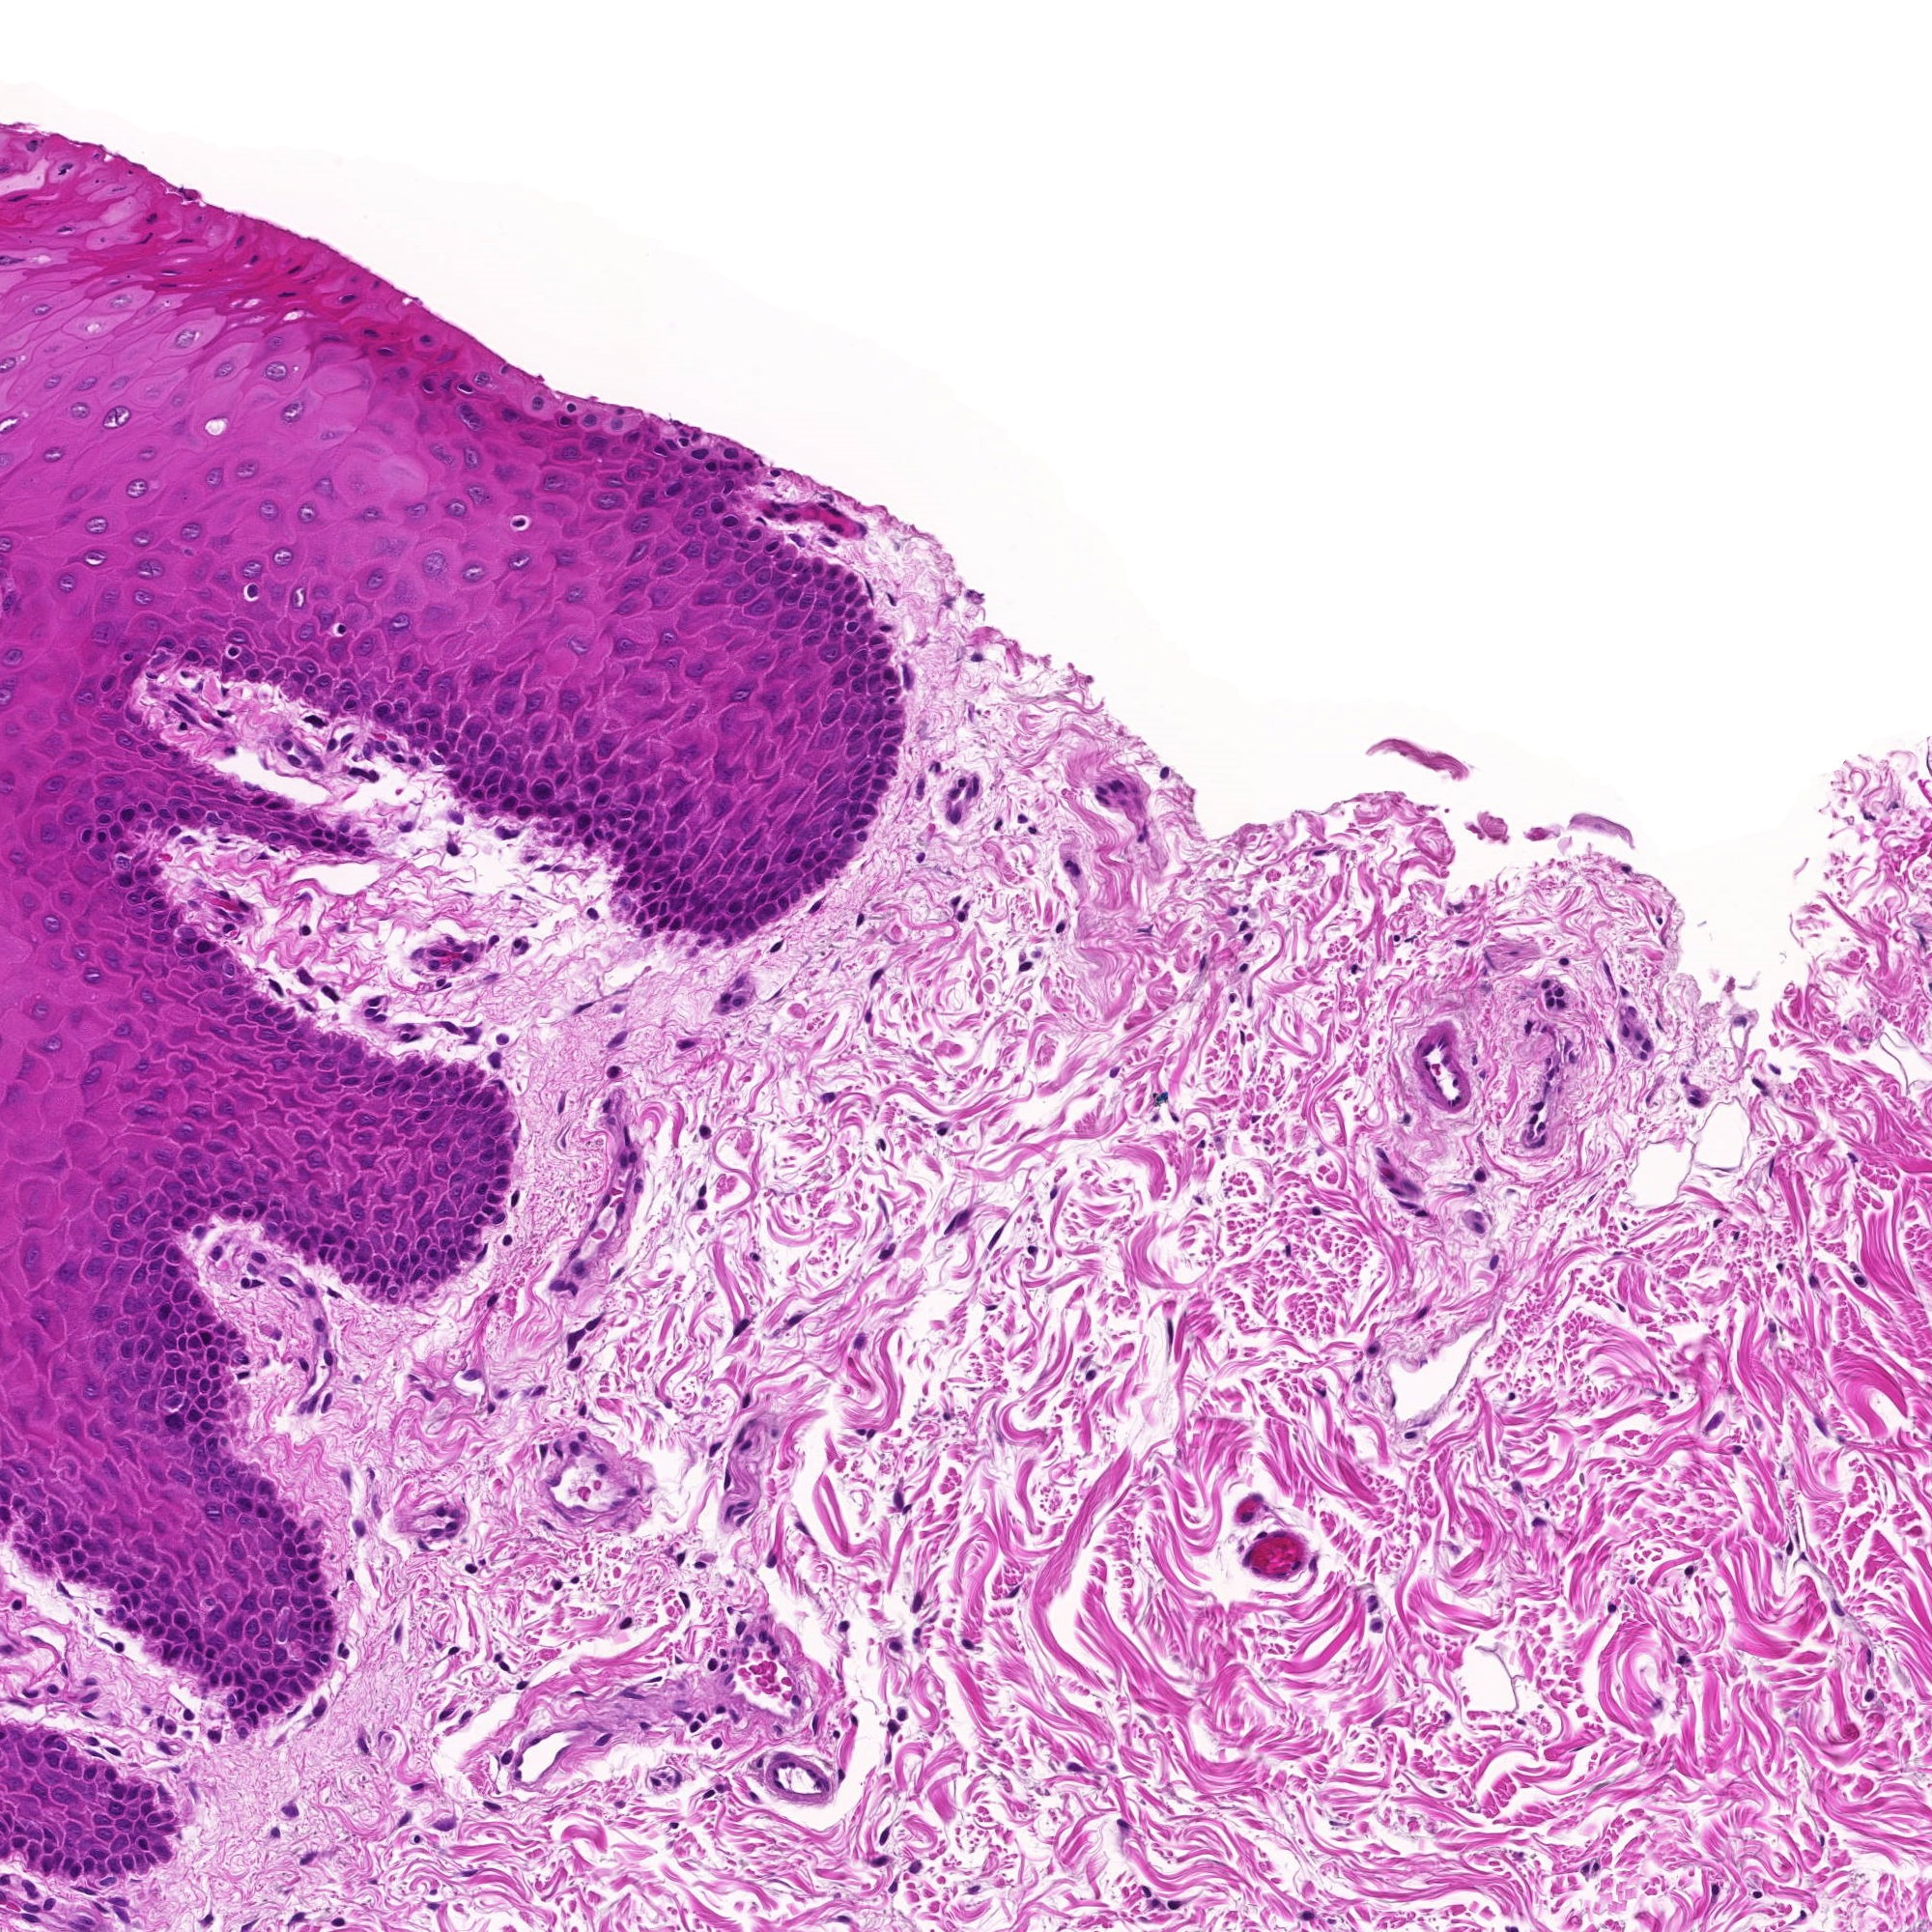epithelial: (449, 380, 481, 414), (387, 1069, 421, 1100), (209, 1341, 242, 1373), (219, 1697, 253, 1729), (248, 1679, 280, 1713), (124, 1610, 157, 1642), (51, 1557, 85, 1589), (564, 791, 598, 823), (667, 777, 699, 810), (333, 281, 364, 313), (354, 317, 386, 349), (370, 336, 402, 368), (170, 177, 202, 209), (2, 182, 34, 214), (361, 267, 393, 299), (48, 152, 80, 184), (209, 352, 241, 384), (274, 267, 306, 299), (110, 863, 142, 895), (85, 821, 117, 853), (456, 713, 488, 745), (152, 626, 184, 658), (391, 713, 423, 745), (260, 821, 292, 853), (88, 803, 120, 835), (212, 649, 244, 681), (384, 692, 416, 724), (311, 819, 343, 851), (462, 660, 494, 692), (258, 658, 290, 690), (218, 782, 249, 814), (88, 786, 120, 817), (310, 603, 341, 635), (145, 922, 177, 954), (343, 832, 375, 863), (446, 939, 478, 971), (230, 642, 262, 674), (281, 816, 313, 847), (193, 646, 225, 678), (207, 563, 239, 594), (203, 768, 235, 800), (453, 738, 485, 770), (437, 709, 469, 741), (35, 909, 67, 941), (186, 941, 218, 973), (127, 869, 159, 901), (442, 727, 474, 759), (331, 656, 363, 688), (124, 897, 156, 929), (235, 561, 267, 593), (113, 642, 145, 674), (269, 793, 301, 824), (129, 717, 161, 748), (35, 729, 67, 761), (278, 584, 310, 616), (163, 1207, 195, 1238), (308, 1237, 340, 1269), (149, 1295, 180, 1327), (407, 1099, 439, 1131), (216, 1194, 248, 1226), (386, 1247, 418, 1279), (161, 1361, 193, 1392), (179, 1359, 211, 1391), (232, 1198, 264, 1230), (198, 1185, 230, 1217), (421, 1258, 453, 1290), (320, 1219, 352, 1251), (456, 1017, 488, 1049), (297, 1215, 329, 1247), (384, 1230, 416, 1261), (403, 1184, 435, 1215), (288, 1122, 320, 1154), (366, 1265, 398, 1297), (343, 1256, 375, 1288), (393, 1168, 425, 1200), (203, 1384, 235, 1415), (405, 1054, 437, 1086), (73, 1063, 104, 1095), (341, 1196, 373, 1228), (442, 1161, 474, 1192), (27, 1300, 58, 1332), (428, 1062, 460, 1093), (214, 1320, 246, 1352), (145, 1141, 177, 1173), (195, 1309, 226, 1341), (127, 1359, 159, 1391), (182, 1184, 214, 1215), (80, 1415, 111, 1447), (382, 1099, 414, 1131), (403, 1251, 435, 1283), (382, 1240, 414, 1272), (203, 1323, 235, 1355), (288, 1157, 320, 1189), (223, 1042, 255, 1074), (449, 1088, 481, 1120), (87, 1339, 119, 1371), (150, 1267, 182, 1299), (18, 1325, 50, 1357), (269, 1168, 301, 1200), (143, 1033, 175, 1065), (306, 1095, 338, 1127), (426, 1070, 458, 1102), (124, 1307, 156, 1339), (165, 1352, 196, 1384), (327, 1099, 359, 1131), (106, 1187, 138, 1219), (212, 1161, 244, 1192), (249, 1198, 281, 1230), (303, 1224, 334, 1256), (308, 1127, 340, 1159), (379, 1063, 410, 1095), (403, 1127, 435, 1159), (223, 1663, 255, 1695), (34, 1849, 65, 1881), (35, 1736, 67, 1767), (278, 1672, 310, 1704), (195, 1637, 226, 1668), (301, 1642, 333, 1674), (304, 1587, 336, 1619), (274, 1509, 306, 1541), (108, 1808, 140, 1840), (274, 1656, 306, 1688), (258, 1686, 290, 1718), (129, 1555, 161, 1587), (152, 1812, 184, 1844), (81, 1838, 113, 1870), (290, 1598, 322, 1629), (48, 1545, 80, 1576), (292, 1548, 324, 1580), (218, 1456, 249, 1488), (301, 1610, 333, 1642), (265, 1502, 297, 1534), (264, 1582, 295, 1614), (165, 1461, 196, 1493), (71, 1557, 103, 1589), (188, 1647, 219, 1679), (88, 1819, 120, 1851), (258, 1497, 290, 1529), (131, 1536, 163, 1568), (265, 1663, 297, 1695), (44, 1530, 76, 1562), (221, 1534, 253, 1566), (290, 1667, 322, 1698), (127, 1844, 159, 1875), (140, 1458, 172, 1490), (149, 1617, 180, 1649), (41, 1729, 73, 1760), (147, 1778, 179, 1810), (219, 1493, 251, 1525), (258, 1651, 290, 1683), (150, 1798, 182, 1829), (41, 1497, 73, 1529), (35, 1835, 67, 1867), (280, 1614, 311, 1645), (207, 1580, 239, 1612), (73, 1769, 104, 1801), (271, 1545, 303, 1576), (163, 1640, 195, 1672), (90, 1865, 122, 1897), (62, 1752, 94, 1783), (87, 1557, 119, 1589), (57, 1518, 88, 1550), (198, 1465, 230, 1497), (522, 386, 554, 418), (713, 437, 745, 469), (711, 464, 743, 495), (616, 456, 648, 488), (708, 444, 740, 476), (676, 421, 708, 453), (706, 456, 738, 488), (556, 391, 587, 423), (678, 464, 709, 495), (616, 851, 648, 883), (667, 870, 699, 902), (713, 506, 745, 538), (637, 893, 669, 925), (573, 824, 605, 856), (538, 794, 570, 826), (738, 518, 770, 550), (639, 835, 671, 867), (752, 863, 784, 895), (586, 784, 617, 816), (582, 817, 614, 849), (803, 860, 835, 892), (594, 754, 626, 786), (644, 901, 676, 932), (842, 807, 874, 839), (837, 793, 869, 824), (796, 623, 828, 655), (681, 885, 713, 916), (860, 718, 892, 750), (867, 637, 899, 669), (862, 768, 893, 800), (816, 568, 847, 600), (517, 686, 548, 718), (479, 741, 511, 773), (642, 869, 674, 901), (819, 614, 851, 646), (718, 906, 750, 938), (518, 794, 550, 826), (754, 495, 786, 527), (833, 596, 865, 628), (690, 915, 722, 947), (828, 837, 860, 869), (552, 685, 584, 717), (876, 699, 908, 731), (711, 916, 743, 948), (506, 784, 538, 816), (754, 764, 786, 796), (610, 591, 642, 623), (729, 901, 761, 932), (832, 826, 863, 858), (617, 732, 649, 764), (754, 685, 786, 717), (660, 768, 692, 800), (814, 639, 846, 671), (729, 674, 761, 706), (835, 699, 867, 731), (814, 853, 846, 885), (743, 591, 775, 623), (846, 575, 878, 607), (580, 805, 612, 837), (497, 775, 529, 807), (713, 849, 745, 881), (584, 752, 616, 784), (858, 729, 890, 761), (823, 582, 855, 614), (800, 853, 832, 885), (823, 816, 855, 847), (752, 886, 784, 918), (763, 784, 794, 816), (591, 743, 623, 775), (671, 786, 702, 817), (717, 881, 748, 913), (867, 695, 899, 727), (720, 511, 752, 543), (784, 860, 816, 892), (543, 807, 575, 839), (812, 775, 844, 807), (764, 874, 796, 906), (600, 844, 632, 876), (770, 635, 801, 667), (497, 794, 529, 826), (485, 1168, 517, 1200), (485, 1154, 517, 1185), (1419, 1069, 1451, 1100), (1263, 1520, 1295, 1552), (1522, 817, 1553, 849), (375, 702, 405, 736), (166, 782, 196, 816), (458, 727, 488, 761), (280, 1028, 310, 1062), (318, 1233, 352, 1263), (104, 1799, 134, 1833), (632, 885, 665, 915), (529, 787, 559, 821), (16, 129, 48, 159), (410, 324, 442, 354), (271, 278, 301, 310), (274, 396, 306, 426), (315, 322, 345, 354), (449, 372, 481, 402), (239, 242, 269, 274), (386, 357, 418, 387), (433, 341, 465, 372), (152, 269, 184, 299), (458, 402, 488, 433), (426, 439, 456, 471), (455, 444, 487, 474), (198, 460, 230, 490), (65, 395, 96, 426), (258, 327, 290, 357), (188, 931, 219, 961), (111, 800, 143, 830), (407, 711, 437, 743), (71, 819, 103, 849), (301, 821, 333, 851), (175, 642, 207, 672), (260, 789, 290, 821), (334, 688, 364, 720), (441, 699, 471, 731), (442, 761, 474, 791), (101, 816, 131, 847), (430, 731, 460, 763), (271, 803, 301, 835), (313, 832, 345, 862), (239, 658, 269, 690), (138, 855, 168, 886), (108, 832, 140, 862), (308, 665, 338, 697), (412, 697, 444, 727), (287, 828, 318, 858), (244, 784, 274, 816), (129, 793, 161, 823), (283, 662, 313, 694), (157, 904, 188, 936), (134, 879, 166, 909), (92, 667, 122, 699), (235, 812, 265, 844), (359, 561, 391, 591), (149, 800, 180, 830), (435, 722, 467, 752), (85, 837, 115, 869), (133, 736, 165, 766), (119, 881, 150, 911), (458, 761, 490, 791), (237, 573, 267, 605), (322, 821, 352, 853), (198, 803, 228, 835), (175, 513, 207, 543), (354, 499, 386, 529), (331, 674, 361, 706), (274, 812, 304, 844), (119, 701, 149, 732), (133, 550, 163, 582), (423, 741, 455, 771), (78, 540, 110, 570), (350, 630, 382, 660), (425, 936, 455, 968), (161, 793, 191, 824), (377, 612, 407, 644), (221, 621, 251, 653), (430, 667, 460, 699), (166, 685, 196, 717), (322, 633, 352, 665), (39, 768, 69, 800), (196, 936, 226, 968), (456, 561, 488, 591), (403, 727, 433, 759), (297, 830, 329, 860), (60, 743, 92, 773), (51, 883, 81, 915), (435, 741, 467, 771), (168, 932, 198, 964), (161, 740, 191, 771), (290, 658, 322, 688), (437, 931, 469, 961), (149, 635, 180, 665), (103, 807, 134, 837), (398, 495, 430, 525), (110, 725, 142, 755), (297, 814, 329, 844), (184, 637, 216, 667), (398, 720, 428, 752), (154, 814, 186, 844), (122, 925, 154, 955), (12, 888, 44, 918), (318, 694, 349, 725), (97, 766, 129, 796), (184, 759, 214, 791), (382, 708, 412, 740), (119, 805, 149, 837), (57, 800, 88, 830), (122, 798, 154, 828), (101, 686, 131, 718), (458, 745, 490, 775), (119, 867, 149, 899), (306, 575, 336, 607), (53, 502, 85, 533), (179, 796, 209, 828), (384, 605, 414, 637), (71, 679, 101, 711), (4, 846, 35, 876), (143, 807, 175, 837), (96, 941, 127, 971), (138, 607, 168, 639), (205, 646, 237, 676), (159, 750, 189, 782), (260, 630, 292, 660), (242, 796, 274, 826), (67, 773, 99, 803), (12, 747, 42, 778), (193, 602, 223, 633), (219, 800, 249, 832), (191, 1322, 221, 1353), (177, 1401, 209, 1431), (271, 1010, 301, 1042), (177, 1327, 209, 1357), (333, 1230, 364, 1260), (418, 1238, 448, 1270), (175, 1196, 205, 1228), (180, 1284, 211, 1316), (244, 1003, 276, 1033), (407, 1228, 437, 1260), (207, 1316, 239, 1346), (433, 1233, 465, 1263), (180, 1421, 211, 1453), (364, 1254, 395, 1286), (366, 1200, 398, 1230), (186, 1387, 218, 1417), (448, 1233, 478, 1265), (395, 1053, 426, 1083), (437, 1056, 467, 1088), (145, 1077, 175, 1109), (340, 1175, 370, 1207), (165, 1277, 196, 1307), (143, 1233, 173, 1265), (331, 1090, 363, 1120), (166, 1329, 198, 1359), (101, 1214, 133, 1244), (50, 1256, 80, 1288), (331, 1238, 363, 1269), (134, 1339, 166, 1369), (322, 1185, 352, 1217), (127, 1051, 157, 1083), (428, 1194, 460, 1224), (370, 1180, 402, 1210), (338, 1039, 370, 1069), (180, 1099, 212, 1129), (373, 1272, 403, 1304), (426, 1242, 458, 1272), (108, 1016, 140, 1046), (281, 1224, 313, 1254), (85, 1299, 117, 1329), (451, 1223, 481, 1254), (55, 1412, 87, 1442), (373, 1123, 405, 1154), (154, 1325, 184, 1357), (170, 1051, 202, 1081), (364, 1074, 396, 1104), (334, 1065, 366, 1095), (172, 1161, 203, 1191), (345, 1242, 377, 1272), (124, 1258, 154, 1290), (42, 1148, 73, 1180), (203, 1346, 234, 1378), (23, 994, 55, 1024), (202, 1014, 232, 1046), (292, 1044, 322, 1076), (257, 1214, 288, 1244), (170, 1120, 202, 1150), (175, 1141, 207, 1171), (196, 1364, 226, 1396), (308, 1026, 338, 1058), (375, 1247, 405, 1279), (205, 1182, 237, 1212), (456, 1359, 488, 1389), (177, 1373, 209, 1403), (260, 1200, 290, 1231), (88, 1037, 119, 1069), (152, 1362, 182, 1394), (251, 1008, 281, 1040), (219, 1152, 249, 1184), (30, 1031, 62, 1062), (117, 1290, 149, 1320), (44, 1359, 74, 1391), (129, 1332, 159, 1364), (173, 1389, 205, 1419), (255, 1021, 287, 1051), (205, 993, 235, 1024), (115, 1230, 145, 1261), (301, 1146, 333, 1177), (168, 1017, 198, 1049), (410, 1069, 442, 1099), (272, 1083, 303, 1115), (311, 1047, 343, 1077), (142, 1410, 173, 1440), (458, 1189, 490, 1219), (446, 1072, 476, 1104), (324, 1109, 354, 1141), (313, 1062, 343, 1093), (180, 1336, 212, 1366), (172, 1288, 203, 1318), (407, 1215, 437, 1247), (258, 1095, 290, 1125), (156, 1171, 188, 1201), (186, 1396, 218, 1426), (226, 1178, 258, 1208), (430, 1221, 460, 1253), (103, 1164, 133, 1196), (161, 1189, 191, 1221), (446, 1100, 476, 1132), (14, 1247, 46, 1277), (90, 1231, 122, 1261), (458, 1058, 490, 1088), (428, 1210, 458, 1242), (165, 1403, 196, 1433), (196, 1399, 226, 1431), (103, 1403, 133, 1435), (173, 1311, 203, 1343), (343, 1233, 373, 1265), (395, 1253, 425, 1284), (198, 1375, 228, 1407), (283, 1021, 313, 1053), (27, 1387, 57, 1419), (188, 1157, 219, 1187), (188, 1192, 219, 1223), (331, 1217, 363, 1247), (143, 1330, 173, 1362), (382, 1269, 414, 1299), (159, 1316, 189, 1348), (173, 1060, 203, 1092), (159, 1284, 189, 1316), (361, 1246, 391, 1277), (237, 996, 267, 1028), (449, 1171, 481, 1201), (51, 1527, 83, 1557), (165, 1605, 196, 1635), (62, 1541, 94, 1571), (255, 1660, 285, 1691), (154, 1637, 186, 1667), (246, 1497, 278, 1527), (134, 1606, 165, 1638), (249, 1474, 281, 1504), (122, 1568, 152, 1599), (311, 1610, 343, 1640), (225, 1679, 257, 1709), (73, 1849, 103, 1881), (55, 1748, 85, 1780), (281, 1550, 313, 1580), (244, 1695, 276, 1725), (212, 1663, 242, 1695), (101, 1792, 131, 1824), (140, 1614, 172, 1644), (64, 1559, 94, 1591), (4, 1826, 35, 1856), (297, 1654, 329, 1684), (200, 1599, 230, 1631), (35, 1725, 65, 1757), (127, 1828, 157, 1859), (111, 1776, 143, 1806), (19, 1507, 50, 1539), (58, 1854, 90, 1884), (283, 1587, 315, 1617), (265, 1683, 297, 1713), (234, 1654, 265, 1684), (287, 1568, 317, 1599), (30, 1530, 60, 1562), (299, 1557, 329, 1589), (287, 1534, 318, 1564), (34, 1826, 65, 1856), (62, 1511, 94, 1541), (5, 1454, 37, 1484), (149, 1564, 180, 1594), (150, 1601, 182, 1631), (110, 1571, 142, 1601), (251, 1601, 281, 1633), (248, 1626, 280, 1656), (131, 1792, 161, 1824), (25, 1776, 55, 1808), (285, 1520, 317, 1550), (147, 1835, 177, 1867), (202, 1626, 232, 1658), (4, 1813, 34, 1845), (140, 1803, 172, 1833), (76, 1530, 106, 1562), (198, 1499, 228, 1530), (57, 1534, 88, 1564), (129, 1778, 159, 1810), (237, 1683, 267, 1714), (80, 1472, 110, 1504), (50, 1844, 80, 1875), (39, 1844, 71, 1874), (232, 1470, 264, 1500), (103, 1828, 134, 1858), (214, 1644, 244, 1675), (9, 1536, 41, 1566), (182, 1642, 214, 1672), (244, 1658, 276, 1688), (189, 1456, 219, 1488), (12, 1730, 42, 1762), (258, 1672, 290, 1702), (274, 1677, 304, 1709), (299, 1582, 329, 1614), (2, 1718, 32, 1750), (18, 1541, 50, 1571), (219, 1557, 249, 1589), (203, 1658, 235, 1688), (97, 1856, 129, 1886), (90, 1509, 122, 1539), (19, 1476, 51, 1506), (310, 1598, 341, 1628), (165, 1614, 195, 1645), (306, 1626, 336, 1658), (27, 1844, 58, 1874), (223, 1465, 253, 1497), (119, 1796, 150, 1826), (290, 1511, 322, 1541), (267, 1525, 297, 1557), (166, 1539, 196, 1571), (65, 1527, 96, 1559), (74, 1541, 104, 1573), (150, 1580, 182, 1610), (35, 1755, 65, 1787), (198, 1453, 228, 1484), (196, 1651, 226, 1683), (67, 1548, 99, 1578), (19, 1727, 51, 1757), (172, 1569, 203, 1599), (152, 1628, 182, 1660), (122, 1580, 152, 1612), (280, 1539, 310, 1571), (34, 1780, 65, 1810), (685, 437, 715, 469), (575, 403, 605, 435), (548, 405, 580, 435), (492, 398, 524, 428), (674, 453, 704, 485), (732, 449, 763, 481), (720, 444, 752, 474), (554, 437, 584, 469), (534, 464, 566, 494), (715, 449, 745, 481), (602, 405, 633, 435), (685, 453, 717, 483), (678, 444, 708, 476), (501, 402, 533, 432), (603, 396, 635, 426), (669, 425, 699, 456), (635, 448, 667, 478), (511, 423, 543, 453), (488, 352, 520, 382), (642, 435, 674, 465), (594, 464, 626, 494), (720, 456, 752, 487), (633, 426, 663, 458), (617, 867, 648, 899), (527, 777, 559, 807), (568, 805, 600, 835), (492, 787, 524, 817), (718, 892, 750, 922), (508, 796, 540, 826), (626, 800, 656, 832), (554, 791, 584, 823), (655, 906, 685, 938), (506, 771, 536, 803), (603, 830, 635, 860), (874, 660, 906, 690), (701, 492, 732, 522), (939, 800, 970, 832), (488, 690, 520, 720), (665, 793, 697, 823), (754, 531, 786, 561), (545, 763, 575, 794), (842, 671, 874, 701), (752, 897, 782, 929), (591, 729, 621, 761), (743, 849, 775, 879), (646, 853, 676, 885), (674, 906, 704, 938), (823, 594, 853, 626), (817, 556, 847, 587), (706, 791, 736, 823), (842, 778, 872, 810), (571, 743, 602, 775), (513, 775, 545, 805), (490, 770, 522, 800), (653, 892, 685, 922), (690, 582, 720, 614), (851, 793, 881, 824), (655, 826, 686, 856), (768, 886, 800, 916), (801, 552, 832, 584), (669, 849, 701, 879), (561, 800, 593, 830), (547, 543, 579, 573), (609, 796, 639, 828), (630, 824, 660, 856), (770, 711, 801, 741), (833, 564, 865, 594), (617, 782, 649, 812), (497, 663, 527, 695), (524, 717, 554, 748), (775, 501, 807, 531), (678, 695, 708, 727), (846, 639, 876, 671), (860, 625, 890, 656), (856, 665, 888, 695), (780, 550, 810, 582), (835, 628, 865, 660), (778, 807, 810, 837), (655, 865, 686, 895), (502, 543, 534, 573), (676, 534, 706, 566), (686, 833, 717, 865), (660, 901, 690, 932), (559, 580, 589, 612), (771, 605, 801, 637), (561, 812, 593, 842), (860, 701, 892, 731), (607, 867, 639, 897), (798, 605, 828, 637), (777, 580, 807, 612), (628, 899, 658, 931), (846, 761, 878, 791), (591, 821, 623, 851), (623, 833, 655, 863), (823, 846, 855, 876), (660, 801, 692, 832), (658, 874, 690, 904), (616, 570, 646, 602), (708, 752, 738, 784), (791, 586, 821, 617), (729, 847, 761, 878), (849, 752, 879, 784), (639, 699, 669, 731), (676, 736, 708, 766), (876, 678, 906, 709), (699, 890, 729, 922), (697, 853, 729, 883), (649, 625, 681, 655), (812, 759, 842, 791), (697, 543, 729, 573), (778, 878, 810, 908), (499, 761, 529, 793), (621, 510, 651, 541), (812, 492, 842, 524), (860, 686, 892, 717), (499, 750, 531, 780), (729, 579, 761, 609), (538, 770, 570, 800), (708, 892, 740, 922), (632, 674, 662, 706), (791, 869, 823, 899), (763, 563, 793, 594), (761, 536, 791, 568), (824, 796, 855, 828), (724, 915, 754, 947), (490, 679, 522, 709), (810, 561, 840, 593), (727, 518, 757, 550), (860, 655, 892, 685), (837, 732, 869, 763), (851, 704, 881, 736), (709, 708, 741, 738), (713, 757, 745, 787), (630, 495, 660, 527), (665, 909, 695, 941), (856, 777, 886, 809), (621, 812, 653, 842), (747, 563, 778, 593), (681, 909, 713, 939), (725, 540, 757, 570), (731, 833, 763, 863), (745, 904, 775, 936), (490, 745, 522, 775), (729, 807, 761, 837), (628, 506, 658, 538), (874, 747, 906, 777), (628, 869, 658, 901), (538, 492, 568, 524), (660, 853, 692, 883), (704, 743, 736, 773), (732, 879, 764, 909), (791, 839, 823, 869), (653, 646, 683, 678), (561, 630, 593, 660), (690, 858, 720, 890), (692, 513, 724, 543), (545, 789, 575, 821), (791, 817, 821, 849), (865, 619, 897, 649), (770, 862, 801, 892), (819, 633, 849, 665), (801, 492, 832, 524), (485, 1109, 515, 1141), (564, 1253, 594, 1284), (488, 1145, 518, 1177), (612, 1143, 642, 1175), (481, 1093, 511, 1125), (499, 1122, 529, 1154), (483, 1122, 513, 1154), (770, 1744, 800, 1776), (614, 1677, 646, 1707), (1127, 821, 1159, 851), (1392, 1171, 1424, 1201), (1410, 1051, 1442, 1081), (1238, 1548, 1270, 1578), (1276, 1550, 1306, 1582), (1265, 1557, 1295, 1589), (1265, 1530, 1295, 1562), (1472, 941, 1502, 973), (1757, 1150, 1787, 1182), (1835, 1716, 1867, 1746), (18, 1836, 46, 1870), (136, 203, 166, 234), (412, 370, 442, 400), (225, 225, 255, 255), (280, 255, 310, 285), (99, 398, 129, 428), (407, 405, 437, 435), (432, 370, 462, 400), (170, 225, 200, 255), (131, 225, 161, 255), (37, 439, 67, 469), (234, 453, 264, 483), (50, 214, 80, 244), (165, 412, 195, 442), (366, 697, 396, 727), (449, 768, 479, 798), (462, 780, 492, 810), (170, 800, 200, 830), (142, 886, 172, 916), (329, 828, 359, 858), (290, 807, 320, 837), (173, 927, 203, 957), (389, 648, 419, 678), (145, 731, 175, 761), (421, 717, 451, 747), (119, 656, 149, 686), (439, 495, 469, 525), (453, 775, 483, 805), (0, 639, 30, 669), (51, 564, 81, 594), (292, 501, 322, 531), (126, 812, 156, 842), (145, 644, 175, 674), (207, 525, 237, 556), (294, 676, 324, 706), (122, 839, 152, 869), (235, 552, 265, 582), (127, 520, 157, 550), (264, 798, 294, 828), (203, 941, 234, 971), (143, 901, 173, 931), (292, 617, 322, 648), (50, 701, 80, 731), (30, 819, 60, 849), (382, 724, 412, 754), (271, 543, 301, 573), (96, 706, 126, 736), (249, 791, 280, 821), (255, 497, 285, 527), (83, 510, 113, 540), (419, 598, 449, 628), (324, 685, 354, 715), (414, 552, 444, 582), (281, 803, 311, 833), (124, 708, 154, 738), (127, 846, 157, 876), (313, 1223, 343, 1253), (188, 1304, 218, 1334), (216, 1180, 246, 1210), (196, 1339, 226, 1369), (455, 1214, 485, 1244), (402, 1260, 432, 1290), (198, 1355, 228, 1385), (418, 1062, 448, 1092), (127, 1099, 157, 1129), (156, 1256, 186, 1286), (246, 1191, 276, 1221), (290, 1228, 320, 1258), (352, 1106, 382, 1136), (453, 1077, 483, 1108), (78, 962, 108, 993), (437, 1247, 467, 1277), (398, 1244, 428, 1274), (239, 987, 269, 1017), (189, 1369, 219, 1399), (370, 1065, 400, 1095), (350, 1146, 380, 1177), (257, 996, 287, 1026), (191, 1412, 221, 1442), (111, 1334, 142, 1364), (405, 1085, 435, 1115), (349, 1122, 379, 1152), (159, 1385, 189, 1415), (425, 1129, 455, 1159), (458, 1069, 488, 1099), (216, 975, 246, 1005), (140, 1249, 170, 1279), (202, 1132, 232, 1162), (267, 1049, 297, 1079), (409, 1207, 439, 1237), (214, 1116, 244, 1146), (464, 1203, 494, 1233), (175, 1180, 205, 1210), (124, 1200, 154, 1230), (391, 1263, 421, 1293), (62, 1001, 92, 1031), (426, 1154, 456, 1184), (391, 1113, 421, 1143), (451, 1120, 481, 1150), (267, 1001, 297, 1031), (5, 1401, 35, 1431), (133, 1385, 163, 1415), (211, 1093, 241, 1123), (113, 1072, 143, 1102), (80, 1253, 110, 1283), (462, 1237, 492, 1267), (322, 1030, 352, 1060), (257, 1150, 287, 1180), (299, 1182, 329, 1212), (462, 1085, 492, 1115), (134, 985, 165, 1016), (357, 1047, 387, 1077), (465, 1173, 495, 1203), (186, 1042, 216, 1072), (182, 1320, 212, 1350), (246, 1164, 276, 1194), (138, 1316, 168, 1346), (76, 1371, 106, 1401), (140, 1221, 170, 1251), (120, 1143, 150, 1173), (157, 1304, 188, 1334), (333, 1054, 363, 1085), (108, 1313, 138, 1343), (439, 1143, 469, 1173), (329, 1247, 359, 1277), (104, 1256, 134, 1286), (143, 1284, 173, 1315), (62, 1118, 92, 1148), (198, 1422, 228, 1453), (225, 1060, 255, 1090), (16, 1237, 46, 1267), (439, 1079, 469, 1109), (223, 1005, 253, 1035), (402, 1235, 432, 1265), (391, 1060, 421, 1090), (196, 968, 226, 998), (260, 1189, 290, 1219), (175, 1070, 205, 1100), (412, 1164, 442, 1194), (142, 1210, 172, 1240), (241, 1674, 271, 1704), (14, 1741, 44, 1771), (230, 1488, 260, 1518), (76, 1757, 106, 1787), (177, 1619, 207, 1649), (115, 1585, 145, 1615), (80, 1552, 110, 1582), (219, 1612, 249, 1642), (265, 1638, 295, 1668), (290, 1610, 320, 1640), (234, 1589, 264, 1619), (103, 1851, 133, 1881), (219, 1688, 249, 1718), (113, 1847, 143, 1877), (115, 1610, 145, 1640), (156, 1587, 186, 1617), (274, 1532, 304, 1562), (198, 1665, 228, 1695), (182, 1629, 212, 1660), (257, 1562, 287, 1592), (249, 1488, 280, 1518), (28, 1743, 58, 1773), (173, 1612, 203, 1642), (159, 1621, 189, 1651), (4, 1488, 34, 1518), (96, 1759, 126, 1789), (186, 1552, 216, 1582), (237, 1698, 267, 1729), (110, 1546, 140, 1576), (51, 1782, 81, 1812), (237, 1612, 267, 1642), (271, 1555, 301, 1585), (94, 1566, 124, 1596), (126, 1812, 156, 1842), (96, 1454, 126, 1484), (87, 1805, 117, 1835), (237, 1491, 267, 1522), (203, 1474, 234, 1504), (430, 1810, 460, 1840), (18, 1819, 48, 1849), (237, 1665, 267, 1695), (88, 1532, 119, 1562), (2, 1767, 32, 1798), (126, 1589, 156, 1619), (143, 1511, 173, 1541), (27, 1833, 57, 1863), (173, 1640, 203, 1670), (297, 1571, 327, 1601), (272, 1619, 303, 1649), (249, 1640, 280, 1670), (37, 1746, 67, 1776), (88, 1852, 119, 1882), (58, 1813, 88, 1844), (30, 1550, 60, 1580), (103, 1888, 133, 1918), (244, 1621, 274, 1651), (290, 1622, 320, 1652), (134, 1835, 165, 1865), (186, 1438, 216, 1468), (159, 1596, 189, 1626), (39, 1490, 69, 1520), (232, 1507, 262, 1537), (257, 1529, 287, 1559), (163, 1628, 193, 1658), (214, 1605, 244, 1635), (122, 1835, 152, 1865), (651, 432, 681, 462), (617, 421, 648, 451), (582, 428, 612, 458), (488, 458, 518, 488), (662, 464, 692, 494), (635, 414, 665, 444), (697, 437, 727, 467), (651, 462, 681, 492), (628, 421, 658, 451), (575, 771, 605, 801), (778, 840, 809, 870), (835, 582, 865, 612), (616, 837, 646, 867), (610, 812, 640, 842), (805, 840, 835, 870), (596, 805, 626, 835), (840, 655, 870, 685), (876, 717, 906, 747), (874, 734, 904, 764), (534, 747, 564, 777), (706, 909, 736, 939), (759, 879, 789, 909), (824, 663, 855, 694), (747, 883, 777, 913), (734, 909, 764, 939), (793, 849, 823, 879), (867, 754, 897, 784), (814, 702, 844, 732), (770, 550, 800, 580), (789, 559, 819, 589), (485, 773, 515, 803), (837, 607, 867, 637), (607, 632, 637, 662), (821, 807, 851, 837), (840, 720, 870, 750), (851, 602, 881, 632), (738, 826, 768, 856), (683, 655, 713, 685), (633, 780, 663, 810), (886, 660, 916, 690), (761, 892, 791, 922), (731, 870, 761, 901), (651, 550, 681, 580), (738, 888, 768, 918), (844, 586, 874, 616), (637, 748, 667, 778), (807, 589, 837, 619), (685, 497, 715, 527), (766, 577, 796, 607), (550, 816, 580, 846), (591, 487, 621, 517), (582, 777, 612, 807), (745, 646, 775, 676), (635, 851, 665, 881), (621, 538, 651, 568), (713, 832, 743, 862), (738, 550, 768, 580), (679, 897, 709, 927), (789, 679, 819, 709), (669, 885, 699, 915), (672, 513, 702, 543), (640, 911, 671, 941), (497, 725, 527, 755), (701, 870, 731, 901), (642, 582, 672, 612), (598, 814, 628, 844), (793, 699, 823, 729), (614, 759, 644, 789), (800, 816, 830, 846), (729, 531, 759, 561), (722, 681, 752, 711), (678, 878, 708, 908), (667, 740, 697, 770), (692, 899, 722, 929), (614, 890, 644, 920), (708, 527, 738, 557), (819, 692, 849, 722), (690, 649, 720, 679), (800, 833, 830, 863), (488, 1134, 518, 1164), (497, 1111, 527, 1141), (961, 580, 991, 610), (1412, 1033, 1442, 1063), (1235, 1541, 1265, 1571), (1254, 1522, 1284, 1552), (1362, 1706, 1392, 1736), (1499, 938, 1529, 968), (1442, 1086, 1472, 1116), (1757, 1313, 1787, 1343), (1714, 970, 1744, 1000), (127, 858, 156, 890), (350, 674, 382, 702), (159, 1343, 188, 1375), (359, 1261, 387, 1293), (276, 1219, 308, 1247), (159, 1371, 188, 1403), (101, 1776, 133, 1805), (138, 1591, 166, 1622), (44, 1507, 73, 1539), (117, 1509, 145, 1541), (225, 1619, 257, 1647), (136, 1566, 168, 1594), (156, 1608, 188, 1637), (695, 451, 727, 479), (632, 485, 663, 513), (568, 709, 596, 741), (844, 621, 876, 649), (1415, 747, 1447, 775), (453, 396, 481, 426), (260, 359, 290, 387), (407, 663, 437, 692), (96, 584, 124, 614), (157, 1408, 188, 1437), (159, 1238, 188, 1269), (338, 1261, 366, 1292), (11, 1051, 41, 1079), (442, 1178, 471, 1208), (442, 1240, 471, 1270), (264, 1520, 292, 1550), (106, 1598, 136, 1626), (686, 893, 717, 922), (663, 888, 692, 918), (479, 763, 508, 793), (747, 741, 775, 771), (479, 731, 508, 761), (479, 1139, 508, 1169), (658, 479, 688, 506)
fibroblast and endothelial: (288, 732, 320, 766), (207, 697, 239, 729), (356, 732, 387, 764), (271, 727, 303, 759), (379, 738, 410, 770), (412, 743, 444, 775), (405, 938, 437, 970), (315, 1277, 347, 1309), (299, 1387, 331, 1419), (444, 1014, 476, 1046), (198, 1720, 230, 1752), (437, 1504, 469, 1536), (327, 1635, 359, 1667), (34, 1674, 65, 1706), (433, 1511, 465, 1543), (437, 1635, 469, 1667), (32, 1888, 64, 1920), (389, 1803, 421, 1835), (343, 1514, 375, 1546), (14, 1677, 46, 1709), (356, 1456, 387, 1488), (761, 456, 793, 488), (660, 407, 692, 439), (490, 817, 522, 849), (502, 929, 534, 961), (920, 750, 952, 782), (844, 904, 876, 936), (876, 584, 908, 616), (764, 494, 796, 525), (722, 980, 754, 1012), (669, 1028, 701, 1060), (487, 1023, 518, 1054), (610, 1122, 642, 1154), (851, 1415, 883, 1447), (543, 1269, 575, 1300), (485, 1378, 517, 1410), (559, 1240, 591, 1272), (596, 1187, 628, 1219), (931, 1399, 962, 1431), (488, 1210, 520, 1242), (674, 1704, 706, 1736), (863, 1844, 895, 1875), (485, 1645, 517, 1677), (826, 1610, 858, 1642), (663, 1541, 695, 1573), (885, 1698, 916, 1730), (704, 1693, 736, 1725), (701, 1727, 732, 1759), (824, 1759, 856, 1790), (805, 1767, 837, 1799), (800, 1707, 832, 1739), (798, 1759, 830, 1790), (741, 1746, 773, 1778), (711, 1463, 743, 1495), (899, 1851, 931, 1882), (616, 1476, 648, 1507), (538, 1465, 570, 1497), (628, 1709, 660, 1741), (759, 1759, 791, 1790), (713, 1697, 745, 1729), (888, 1626, 920, 1658), (715, 1499, 747, 1530), (752, 1750, 784, 1782), (1044, 911, 1076, 943), (1056, 851, 1088, 883), (1007, 803, 1039, 835), (1131, 915, 1162, 947), (1405, 1196, 1437, 1228), (1405, 1297, 1437, 1329), (1016, 1233, 1047, 1265), (1394, 1419, 1426, 1451), (1357, 1332, 1389, 1364), (1306, 1376, 1338, 1408), (1097, 1056, 1129, 1088), (1226, 1021, 1258, 1053), (1376, 1168, 1408, 1200), (1108, 1810, 1139, 1842), (1240, 1483, 1272, 1514), (1610, 853, 1642, 885), (1522, 1090, 1553, 1122), (1612, 1016, 1644, 1047), (1679, 1083, 1711, 1115), (1525, 1115, 1557, 1146), (1513, 1010, 1545, 1042), (1477, 1246, 1509, 1277), (1725, 1005, 1757, 1037), (1495, 1380, 1527, 1412), (1628, 1035, 1660, 1067), (1836, 1141, 1868, 1173), (1530, 1014, 1562, 1046), (1720, 1219, 1752, 1251), (1667, 1644, 1698, 1675), (1571, 1852, 1603, 1884), (1522, 1506, 1553, 1537), (1741, 1877, 1773, 1909), (1787, 1898, 1819, 1930), (184, 671, 214, 704), (182, 824, 216, 855), (1284, 1548, 1318, 1578), (341, 757, 373, 787), (299, 706, 331, 736), (354, 761, 386, 791), (400, 745, 430, 777), (387, 743, 418, 775), (437, 833, 467, 865), (207, 879, 239, 909), (322, 729, 354, 759), (391, 812, 421, 844), (331, 724, 363, 754), (442, 801, 472, 833), (214, 911, 244, 943), (301, 748, 333, 778), (173, 824, 203, 856), (166, 699, 198, 729), (214, 736, 246, 766), (364, 731, 396, 761), (453, 934, 485, 964), (209, 676, 241, 706), (327, 911, 357, 943), (375, 729, 405, 761), (209, 901, 241, 931), (170, 658, 200, 690), (260, 971, 292, 1001), (359, 985, 389, 1017), (244, 1242, 274, 1274), (235, 1267, 265, 1299), (361, 1001, 393, 1031), (295, 1276, 326, 1307), (288, 961, 320, 991), (425, 968, 456, 998), (393, 1021, 423, 1053), (313, 1343, 343, 1375), (310, 1387, 341, 1417), (269, 1267, 301, 1297), (303, 1309, 334, 1339), (288, 1350, 318, 1382), (412, 1380, 444, 1410), (242, 1253, 272, 1284), (280, 1270, 311, 1300), (426, 1497, 456, 1529), (173, 1698, 203, 1730), (456, 1552, 487, 1583), (14, 1872, 44, 1904), (48, 1573, 78, 1605), (428, 1698, 460, 1729), (290, 1844, 322, 1874), (421, 1514, 453, 1545), (449, 1700, 481, 1730), (334, 1559, 364, 1591), (258, 1817, 290, 1847), (276, 1794, 306, 1826), (71, 1875, 103, 1905), (322, 1902, 354, 1932), (14, 1900, 44, 1932), (191, 1902, 223, 1932), (226, 1716, 258, 1746), (402, 1822, 432, 1854), (73, 1672, 104, 1702), (382, 1617, 412, 1649), (331, 1461, 361, 1493), (294, 1695, 324, 1727), (407, 1529, 437, 1560), (71, 1698, 103, 1729), (106, 1898, 136, 1930), (85, 1891, 115, 1923), (665, 416, 697, 446), (821, 511, 851, 543), (761, 931, 793, 961), (800, 892, 832, 922), (939, 775, 970, 807), (817, 497, 849, 527), (812, 525, 844, 556), (577, 897, 607, 929), (939, 888, 971, 918), (632, 915, 662, 947), (844, 513, 876, 543), (869, 612, 901, 642), (906, 770, 936, 801), (777, 511, 807, 543), (515, 842, 545, 874), (932, 586, 962, 617), (688, 925, 718, 957), (561, 1346, 591, 1378), (557, 1323, 589, 1353), (870, 1237, 901, 1269), (579, 1307, 609, 1339), (715, 984, 747, 1014), (490, 1224, 522, 1254), (686, 1175, 718, 1205), (499, 1182, 529, 1214), (554, 1274, 586, 1304), (688, 1116, 720, 1146), (780, 1304, 810, 1336), (725, 1309, 755, 1341), (731, 1384, 761, 1415), (685, 1187, 715, 1219), (725, 1421, 757, 1451), (605, 1192, 635, 1224), (865, 1129, 897, 1159), (938, 1208, 968, 1240), (479, 1046, 511, 1076), (602, 1024, 633, 1054), (564, 1318, 596, 1348), (623, 1169, 653, 1201), (724, 966, 755, 996), (593, 1088, 623, 1120), (479, 1182, 510, 1214), (853, 1000, 883, 1031), (561, 1261, 591, 1293), (591, 1182, 621, 1214), (603, 1256, 633, 1288), (561, 1422, 593, 1453), (738, 1408, 770, 1438), (669, 1582, 699, 1614), (679, 1711, 711, 1741), (490, 1741, 520, 1773), (869, 1821, 899, 1852), (610, 1608, 642, 1638), (506, 1668, 536, 1700), (759, 1629, 789, 1661), (750, 1621, 780, 1652), (867, 1836, 899, 1867), (695, 1778, 727, 1808), (879, 1629, 909, 1661), (902, 1585, 932, 1617), (883, 1484, 915, 1514), (640, 1766, 671, 1798), (786, 1511, 817, 1541), (686, 1702, 717, 1734), (839, 1704, 869, 1736), (520, 1725, 550, 1757), (554, 1566, 586, 1596), (821, 1718, 853, 1748), (878, 1872, 909, 1902), (586, 1453, 616, 1484), (763, 1767, 793, 1799), (499, 1748, 529, 1780), (780, 1684, 812, 1714), (738, 1780, 768, 1812), (658, 1808, 688, 1840), (757, 1545, 787, 1576), (901, 1619, 931, 1651), (706, 1771, 736, 1803), (727, 1500, 759, 1530), (708, 1652, 740, 1683), (564, 1677, 594, 1709), (872, 1741, 904, 1771), (501, 1759, 533, 1789), (531, 1509, 563, 1539), (545, 1737, 575, 1769), (695, 1697, 727, 1727), (1100, 770, 1131, 801), (1092, 773, 1122, 805), (959, 771, 989, 803), (1228, 909, 1258, 941), (1148, 757, 1180, 787), (1016, 810, 1046, 842), (961, 642, 993, 672), (1384, 922, 1415, 952), (1230, 893, 1261, 924), (1146, 1081, 1177, 1113), (980, 1221, 1010, 1253), (1076, 1359, 1106, 1391), (1300, 1194, 1330, 1226), (1391, 1104, 1422, 1134), (1150, 1102, 1182, 1132), (1368, 1141, 1399, 1171), (1161, 1100, 1191, 1132), (1223, 982, 1253, 1014), (1272, 1233, 1302, 1265), (1385, 1173, 1415, 1205), (1039, 1177, 1069, 1208), (1371, 1148, 1401, 1180), (1235, 984, 1265, 1016), (975, 1292, 1007, 1322), (1185, 1129, 1215, 1161), (1152, 1888, 1182, 1920), (1058, 1752, 1090, 1782), (1132, 1877, 1162, 1909), (1361, 1610, 1392, 1640), (1292, 1898, 1322, 1930), (1139, 1888, 1171, 1918), (1357, 1587, 1389, 1617), (1231, 1499, 1261, 1530), (1548, 943, 1580, 973), (1879, 789, 1909, 821), (1523, 1127, 1555, 1157), (1845, 1265, 1875, 1297), (1465, 1159, 1495, 1191), (1546, 984, 1576, 1016), (1594, 1030, 1624, 1062), (1698, 1405, 1729, 1437), (1798, 1265, 1828, 1297), (1702, 1205, 1732, 1237), (1654, 1380, 1686, 1410), (1764, 1251, 1794, 1283), (1606, 977, 1638, 1007), (1463, 1210, 1493, 1242), (1805, 1408, 1835, 1440), (1759, 1054, 1790, 1085), (1622, 1019, 1652, 1051), (1454, 1171, 1484, 1203), (1672, 1067, 1702, 1099), (1536, 1058, 1568, 1088), (1615, 996, 1647, 1026), (1442, 1065, 1472, 1097), (1530, 1070, 1562, 1100), (1854, 1679, 1884, 1711), (1502, 1472, 1534, 1502), (1698, 1874, 1730, 1904), (1776, 1534, 1808, 1564), (1822, 1592, 1852, 1624), (1642, 1688, 1672, 1720), (1852, 1640, 1884, 1670), (1787, 1541, 1819, 1571), (283, 741, 313, 771), (168, 709, 198, 740), (290, 915, 320, 945), (228, 892, 258, 922), (202, 708, 232, 738), (281, 731, 311, 761), (248, 840, 278, 870), (352, 741, 382, 771), (329, 814, 359, 844), (207, 824, 237, 855), (435, 1012, 465, 1042), (292, 991, 322, 1021), (202, 1237, 232, 1267), (184, 1215, 214, 1246), (228, 1345, 258, 1375), (393, 1012, 423, 1042), (103, 1631, 133, 1661), (304, 1695, 334, 1725), (154, 1713, 184, 1743), (2, 1589, 32, 1619), (149, 1732, 179, 1762), (99, 1736, 129, 1766), (403, 1771, 433, 1801), (147, 1707, 177, 1737), (349, 1730, 379, 1760), (455, 1858, 485, 1888), (50, 1654, 80, 1684), (131, 1695, 161, 1725), (19, 1624, 50, 1654), (161, 1755, 191, 1785), (846, 821, 876, 851), (906, 842, 936, 872), (479, 924, 510, 954), (943, 901, 973, 931), (543, 826, 573, 856), (943, 768, 973, 798), (566, 993, 596, 1023), (598, 1056, 628, 1086), (860, 961, 890, 991), (927, 1115, 957, 1145), (814, 1081, 844, 1111), (740, 1242, 770, 1272), (485, 1069, 515, 1099), (568, 1414, 598, 1444), (524, 1375, 554, 1405), (844, 1327, 874, 1357), (614, 1132, 644, 1162), (483, 1033, 513, 1063), (545, 1090, 575, 1120), (602, 993, 632, 1023), (941, 1203, 971, 1233), (481, 1385, 511, 1415), (655, 1766, 685, 1796), (878, 1711, 908, 1741), (697, 1649, 727, 1679), (541, 1569, 571, 1599), (722, 1495, 752, 1525), (686, 1548, 717, 1578), (888, 1493, 918, 1523), (479, 1790, 510, 1821), (732, 1624, 763, 1654), (640, 1665, 671, 1695), (828, 1900, 858, 1930), (729, 1637, 759, 1667), (1086, 780, 1116, 810), (982, 809, 1012, 839), (1231, 920, 1261, 950), (1304, 837, 1334, 867), (1217, 895, 1247, 925), (1008, 943, 1039, 973), (1373, 1161, 1403, 1191), (1343, 1361, 1373, 1391), (1396, 1192, 1426, 1223), (1141, 1093, 1171, 1123), (998, 1576, 1028, 1606), (1299, 1548, 1329, 1578), (959, 1874, 989, 1904), (1447, 927, 1477, 957), (1852, 801, 1882, 832), (1444, 892, 1474, 922), (1537, 987, 1568, 1017), (1543, 975, 1573, 1005), (1520, 1104, 1550, 1134), (1744, 1069, 1775, 1099), (1530, 968, 1560, 998), (1516, 1122, 1546, 1152), (1557, 1042, 1587, 1072), (1674, 1555, 1704, 1585), (1596, 1592, 1626, 1622), (313, 978, 345, 1007), (76, 1681, 104, 1713), (281, 1902, 313, 1930), (485, 1201, 513, 1233), (479, 1284, 508, 1316), (479, 1194, 508, 1226), (600, 1035, 628, 1067), (589, 1723, 617, 1755), (725, 1610, 754, 1642), (1154, 1315, 1185, 1343), (1629, 1024, 1658, 1056), (534, 853, 563, 883), (568, 1394, 596, 1424), (1534, 978, 1562, 1008)
lymphocyte: (226, 1359, 258, 1391), (708, 1642, 740, 1674), (218, 635, 248, 667), (290, 980, 320, 1012), (258, 985, 288, 1017), (78, 1725, 108, 1757), (502, 508, 534, 538), (780, 522, 812, 552), (327, 614, 357, 644), (418, 1888, 448, 1918), (320, 1578, 350, 1608), (663, 1644, 692, 1675)
